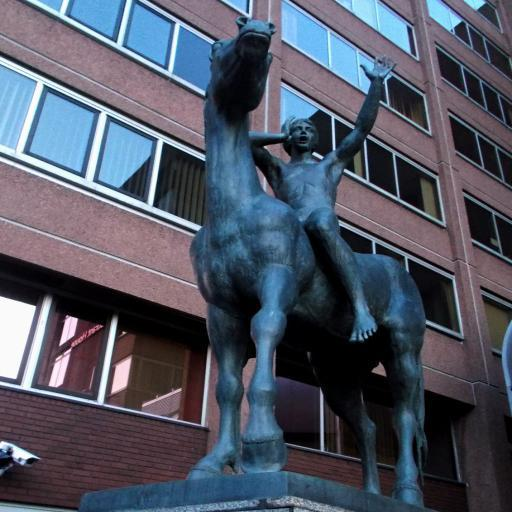horse: (187, 14, 429, 510)
